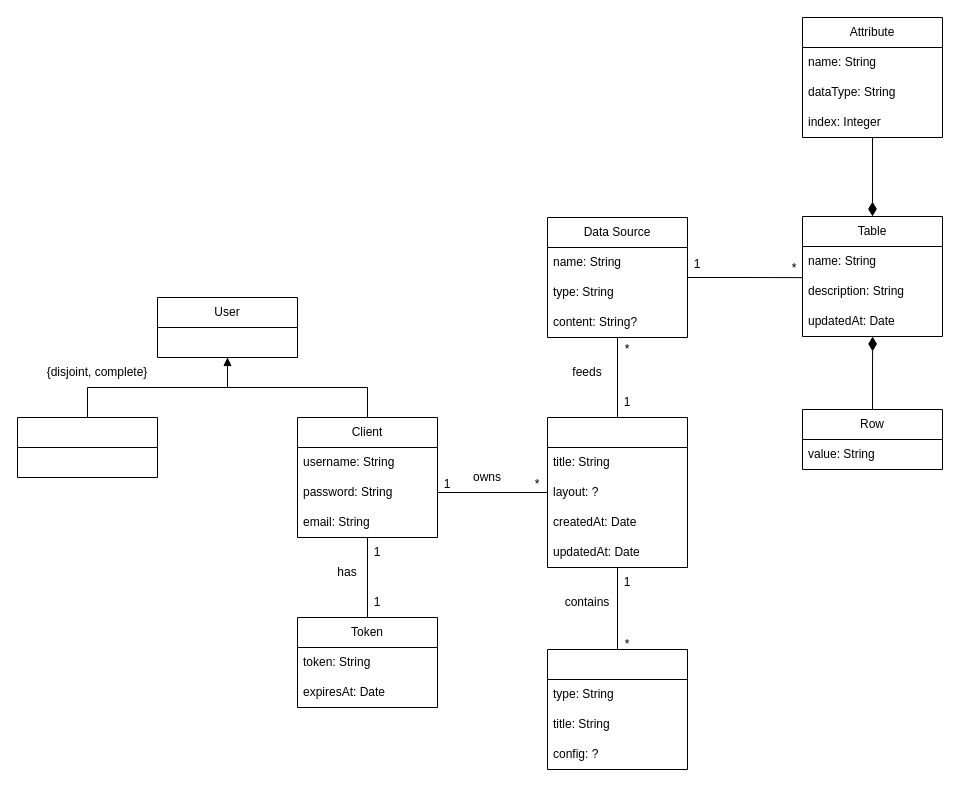
Some shapes in this 960 by 787 pixel diagram are drawn without their labels. Here are the shapes that lost their labels. From the top down, the box of each, then its label:
(16, 416, 158, 478): Visitor
(546, 416, 688, 568): Dashboard
(546, 648, 688, 770): Widget
